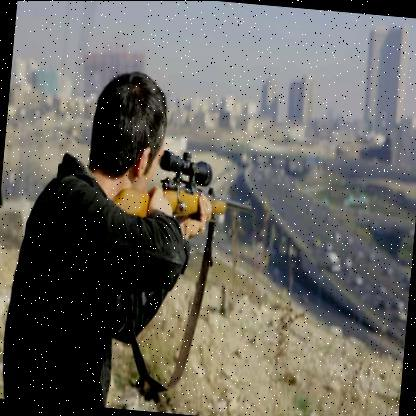rifle: (104, 142, 263, 241)
